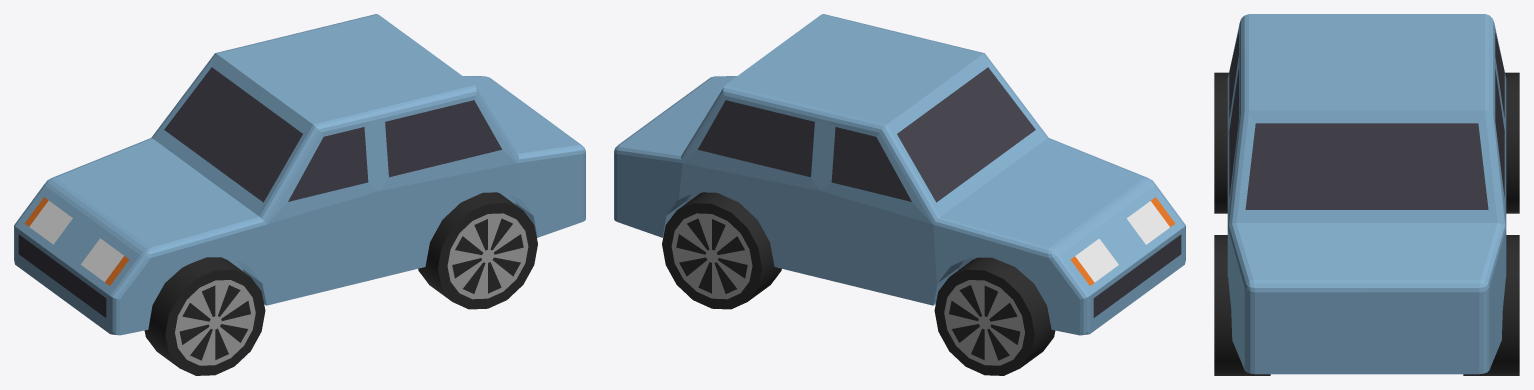
Rendered from LowPolyCar_Unity_03.fbx.
The picture shows the model from 3 angles, left to right: view 1: azimuth 30°, elevation 25°; view 2: azimuth 150°, elevation 25°; view 3: azimuth 270°, elevation 25°; orthographic projection. The views are drawn at different scales.
Parts seen in each view (by area): view 1: Cube, Cylinder, Cylinder.002; view 2: Cube, Cylinder.001, Cylinder.003; view 3: Cube, Cylinder.002, Cylinder.003, Cylinder, Cylinder.001.
Part boxes in pixels (x1,y1,x2,y2): Cube: (14,14,585,335); Cylinder: (144,257,265,375); Cylinder.002: (418,192,537,309); Cube: (614,14,1185,335); Cylinder.001: (934,257,1055,375); Cylinder.003: (662,192,781,309); Cube: (1227,14,1506,374); Cylinder.002: (1214,235,1270,375); Cylinder.003: (1463,235,1519,375); Cylinder: (1214,72,1228,213); Cylinder.001: (1505,72,1519,213).
Size of the model in its own units: 572 by 245 by 260.
